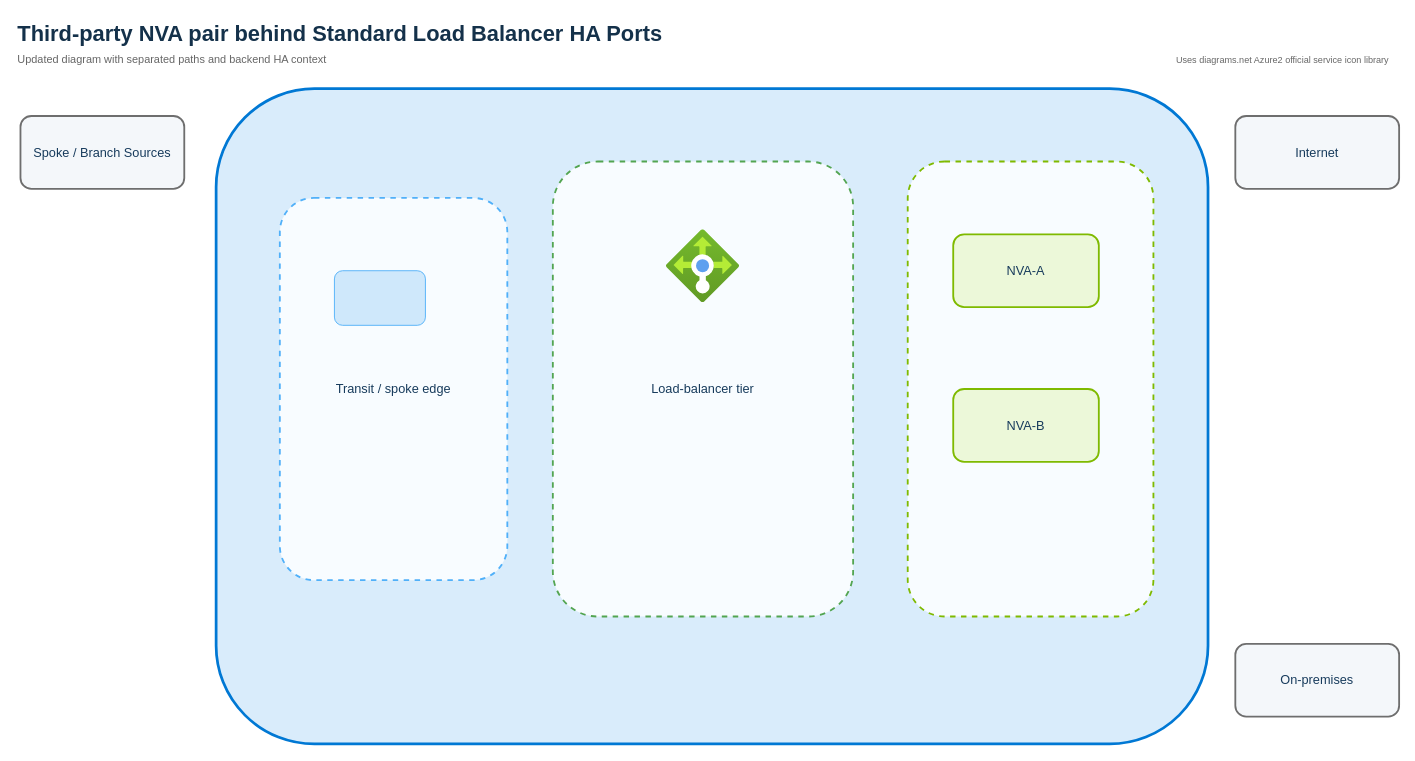
This 1415x761 diagram has some shape labels left out. The shapes that lost their labels are listed below. From the top down, each one's box as (x1, y1, x2, y2) in pixels, then its label:
(639, 229, 766, 302): Standard LB HA Ports
(334, 270, 425, 325): UDR / BGP ingress
(906, 160, 1154, 617): Firewall tier
